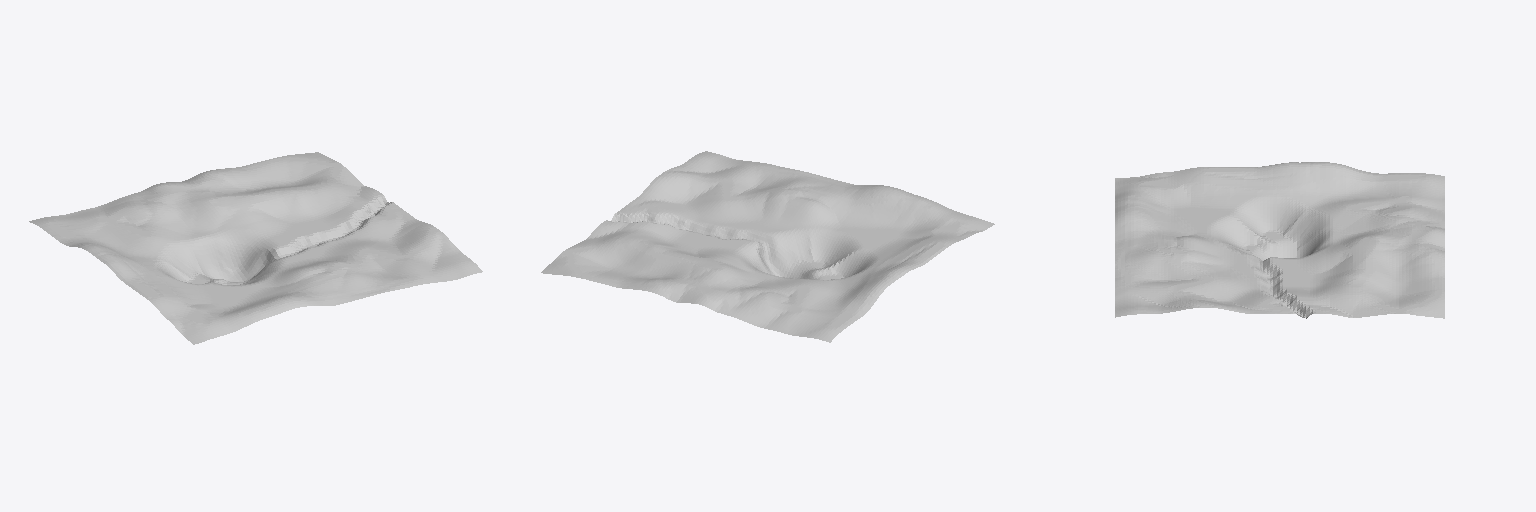
Rendered from terrain_test1.obj.
3 views of the same model, side by side, from view 1: azimuth 30°, elevation 25°; view 2: azimuth 150°, elevation 25°; view 3: azimuth 270°, elevation 25° (orthographic).
Visible parts, largest first — view 1: Plane001; view 2: Plane001; view 3: Plane001.
Part boxes in pixels (x1,y1,x2,y2): Plane001: (29, 152, 482, 344); Plane001: (541, 151, 994, 342); Plane001: (1115, 162, 1444, 318).
Size of the model in its own units: 506 by 81.19 by 500.